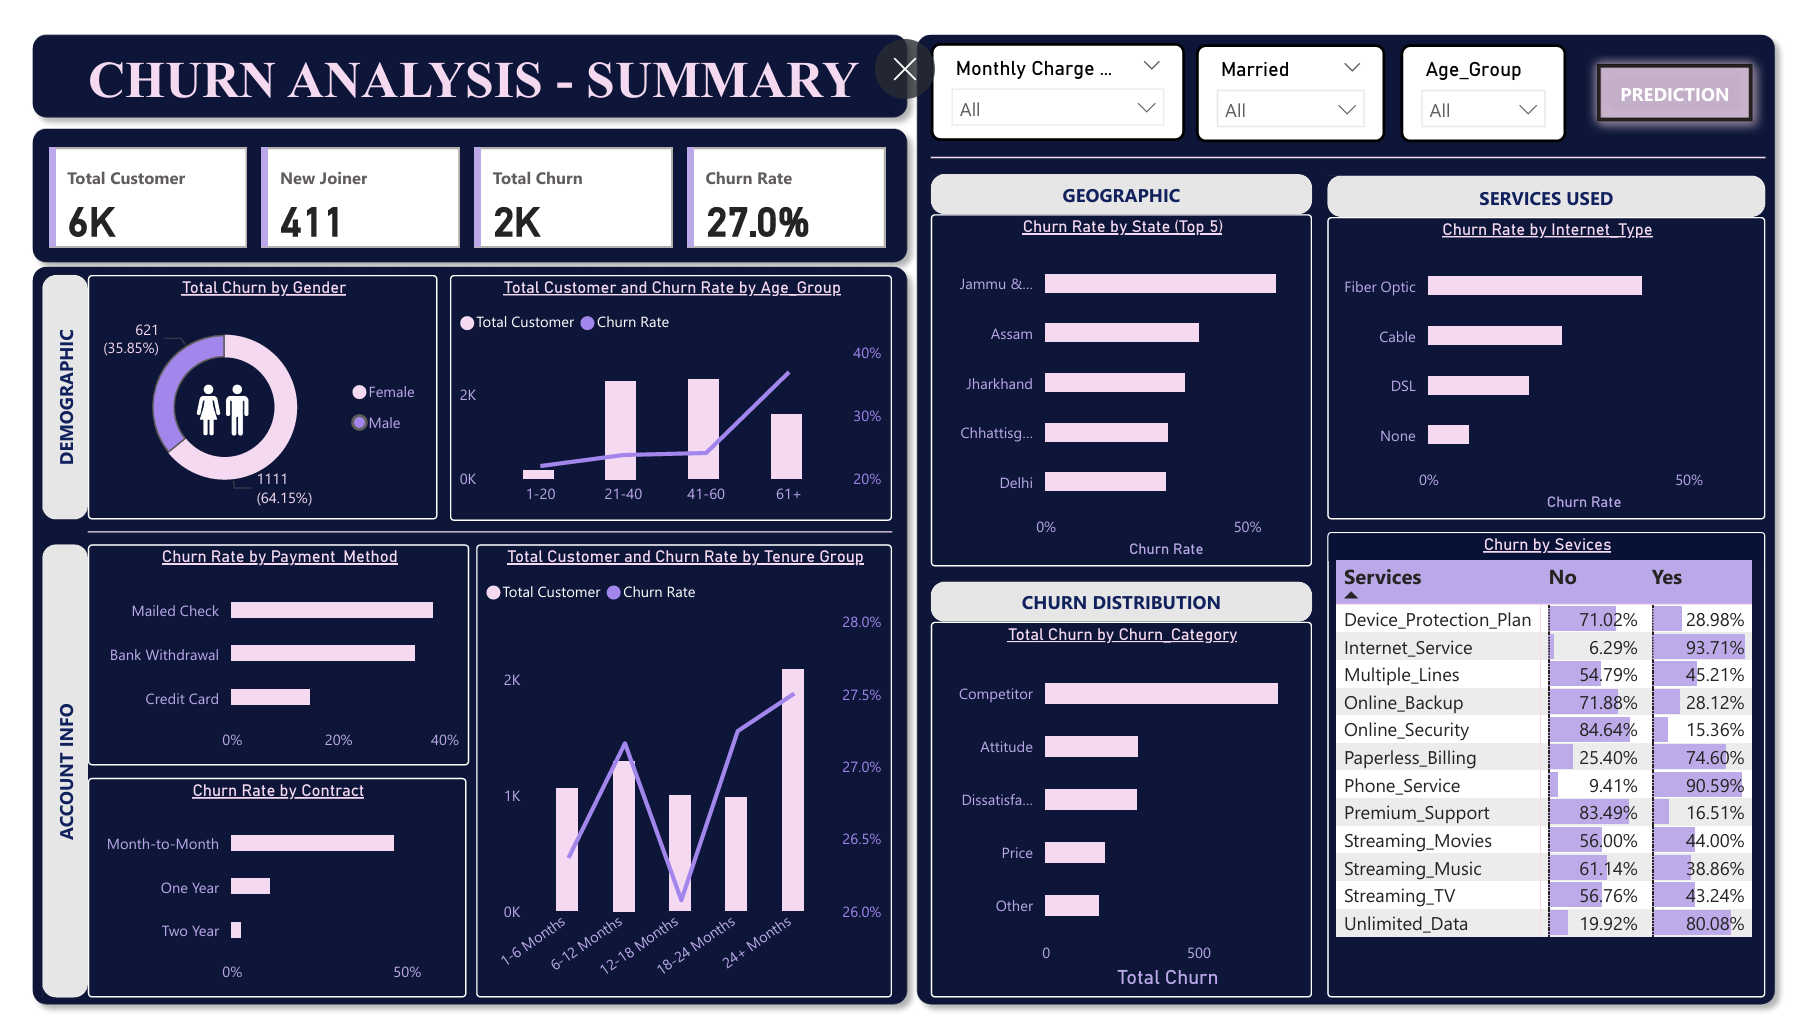

The dashboard page shown, as its layout file describes it:
{"tool":"powerbi","page":{"name":"Summary","canvas":[1280,720],"ordinal":0},"visuals":[{"type":"shape","box":[639.5,0,639.5,720.2],"z":0},{"type":"shape","box":[0,68.5,650.5,114.9],"z":1000},{"type":"shape","box":[0,167.5,650.5,552.7],"z":2000},{"type":"cardVisual","fields":{"Data":["MeasurTable.Total Customer","MeasurTable.New Joiner","MeasurTable.Total Churn","MeasurTable.Churn Rate"]},"box":[15.9,85.6,615.1,81.9],"z":3000},{"type":"lineStackedColumnComboChart","fields":{"Y":["MeasurTable.Total Customer"],"Y2":["MeasurTable.Churn Rate"],"Category":["Mapping_age.Age_Group"]},"box":[310.6,183.4,320.4,177.3],"z":4000},{"type":"barChart","fields":{"Category":["prod_churn.Payment_Method"],"Y":["MeasurTable.Churn Rate"]},"box":[48.9,377.9,276.4,160.2],"z":5000},{"type":"barChart","fields":{"Category":["prod_churn.Contract"],"Y":["MeasurTable.Churn Rate"]},"box":[48.9,546.6,273.9,159],"z":6000},{"type":"lineStackedColumnComboChart","fields":{"Y":["MeasurTable.Total Customer"],"Y2":["MeasurTable.Churn Rate"],"Category":["Mapping_Tenure.Tenure Group"]},"box":[330.2,377.9,300.8,327.7],"z":7000},{"type":"barChart","title":"Churn Rate by State (Top 5)","fields":{"Y":["MeasurTable.Churn Rate"],"Category":["prod_churn.State"]},"box":[659.1,139.4,276.4,254.3],"z":8000},{"type":"barChart","fields":{"Category":["prod_churn.Churn_Category"],"Y":["MeasurTable.Total Churn"]},"box":[659.1,434.1,276.4,271.5],"z":9000},{"type":"donutChart","fields":{"Category":["prod_churn.Gender"],"Y":["MeasurTable.Total Churn"]},"box":[48.9,183.4,253.1,176.1],"z":10000},{"type":"barChart","fields":{"Y":["MeasurTable.Churn Rate"],"Category":["prod_churn.Internet_Type"]},"box":[946.5,140.6,316.7,218.9],"z":11000},{"type":"shape","box":[0,0,650.5,78.3],"z":12000},{"type":"pivotTable","title":"Churn by Sevices","fields":{"Rows":["prod_Services.Services"],"Columns":["prod_Services.Status"],"Values":["Sum(prod_Services.Churn Status)"]},"box":[946.5,369.3,316.7,336.3],"z":13000},{"type":"slicer","fields":{"Values":["prod_churn.Monthly Charge Status"]},"box":[659.1,14.7,183.4,70.9],"z":14000},{"type":"image","box":[116.2,251.9,59.9,57.5],"z":15000},{"type":"slicer","fields":{"Values":["prod_churn.Married"]},"box":[851.1,15.9,137,70.9],"z":16000},{"type":"textbox","box":[15.9,14.7,623.6,53.8],"z":17000},{"type":"shape","box":[15.9,183.4,33,176.1],"z":18000},{"type":"shape","box":[15.9,377.9,33,327.7],"z":19000},{"type":"shape","box":[659.1,110.1,276.4,29.3],"z":20000},{"type":"shape","box":[659.1,404.8,276.4,29.3],"z":21000},{"type":"shape","box":[946.5,111.3,316.7,29.3],"z":22000},{"type":"shape","box":[48.9,359.5,582.1,18.3],"z":23000},{"type":"slicer","fields":{"Values":["Mapping_age.Age_Group"]},"box":[999.1,15.9,119.8,70.9],"z":24000},{"type":"shape","box":[659.1,85.6,604.1,24.5],"z":25000},{"type":"actionButton","box":[1132.3,20.8,130.8,59.9],"z":25001}]}

Visuals, with their boxes in screenshot pixels (x1, y1, x2, y2), scaled from the page's 1280x720 canvas onto the 1808x1027 screenshot:
shape: 903:0:1807:1026
shape: 0:98:919:262
shape: 0:239:919:1026
cardVisual - MeasurTable.Total Customer x MeasurTable.New Joiner: 22:122:891:239
lineStackedColumnComboChart - MeasurTable.Total Customer x MeasurTable.Churn Rate: 439:262:891:514
barChart - prod_churn.Payment_Method x MeasurTable.Churn Rate: 69:539:459:768
barChart - prod_churn.Contract x MeasurTable.Churn Rate: 69:780:456:1006
lineStackedColumnComboChart - MeasurTable.Total Customer x MeasurTable.Churn Rate: 466:539:891:1006
"Churn Rate by State (Top 5)" barChart: 931:199:1321:562
barChart - prod_churn.Churn_Category x MeasurTable.Total Churn: 931:619:1321:1006
donutChart - prod_churn.Gender x MeasurTable.Total Churn: 69:262:427:513
barChart - MeasurTable.Churn Rate x prod_churn.Internet_Type: 1337:201:1784:513
shape: 0:0:919:112
"Churn by Sevices" pivotTable: 1337:527:1784:1006
slicer - prod_churn.Monthly Charge Status: 931:21:1190:122
image: 164:359:249:441
slicer - prod_churn.Married: 1202:23:1396:124
textbox: 22:21:903:98
shape: 22:262:69:513
shape: 22:539:69:1006
shape: 931:157:1321:199
shape: 931:577:1321:619
shape: 1337:159:1784:201
shape: 69:513:891:539
slicer - Mapping_age.Age_Group: 1411:23:1580:124
shape: 931:122:1784:157
actionButton: 1599:30:1784:115
